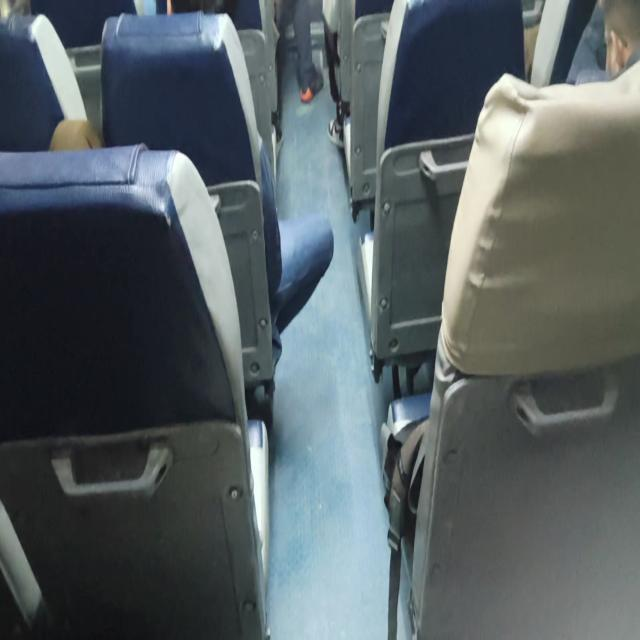person: (387, 1, 639, 636), (567, 0, 639, 85), (292, 0, 324, 103), (48, 117, 103, 151)
